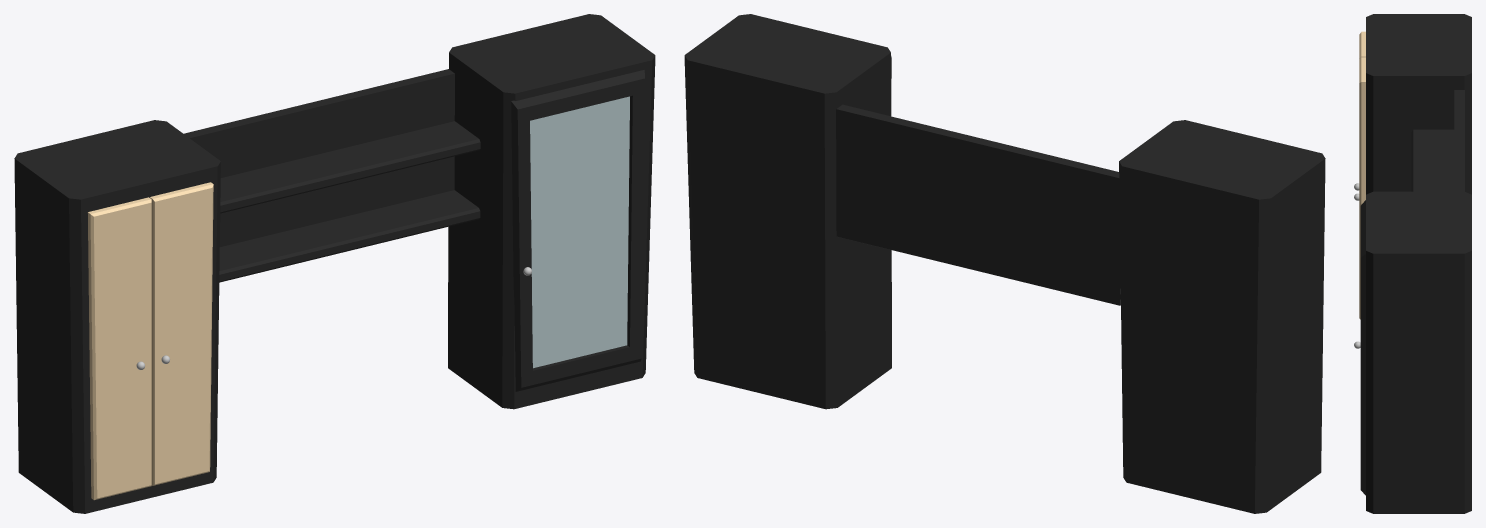
File: Cupboard 2.fbx
3 views of the same model, side by side, from view 1: azimuth 30°, elevation 25°; view 2: azimuth 150°, elevation 25°; view 3: azimuth 270°, elevation 25° (orthographic). The views are drawn at different scales.
Visible parts, largest first — view 1: Cupboard 2; view 2: Cupboard 2; view 3: Cupboard 2.
Part boxes in pixels (bbox=[...]): Cupboard 2: bbox=[14, 14, 655, 513]; Cupboard 2: bbox=[684, 14, 1325, 513]; Cupboard 2: bbox=[1354, 14, 1471, 513].
Size of the model in its own units: 818 by 420 by 170.
